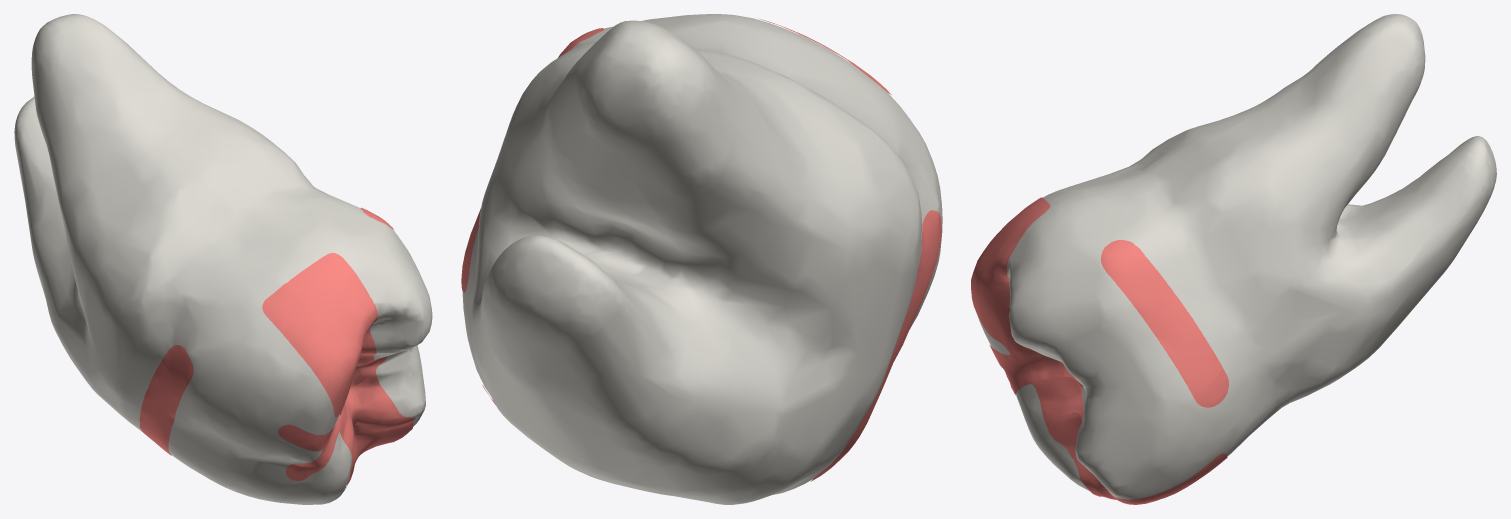
The model's file is tooth_47_FMA55706.glb.
The picture shows the model from 3 angles, left to right: view 1: azimuth 30°, elevation 25°; view 2: azimuth 150°, elevation 25°; view 3: azimuth 270°, elevation 25°; orthographic projection. The views are drawn at different scales.
Parts seen in each view (by area): view 1: tooth_47, class2_distal, class2_mesial, class5_facial, class1; view 2: tooth_47, class5_facial, class5_lingual; view 3: tooth_47, class5_lingual, class2_distal, class2_mesial, class1.
Part boxes in pixels (x1,y1,x2,y2): tooth_47: (14,14,432,504); class2_distal: (262,253,381,442); class2_mesial: (332,358,415,489); class5_facial: (139,345,193,455); class1: (278,338,387,480); tooth_47: (462,14,942,504); class5_facial: (810,210,941,481); class5_lingual: (461,28,604,292); tooth_47: (977,14,1496,499); class5_lingual: (1101,240,1228,407); class2_distal: (971,197,1083,420); class2_mesial: (1023,351,1227,504); class1: (990,345,1083,418).
Size of the model in its own units: 11.47 by 15.63 by 17.73.
